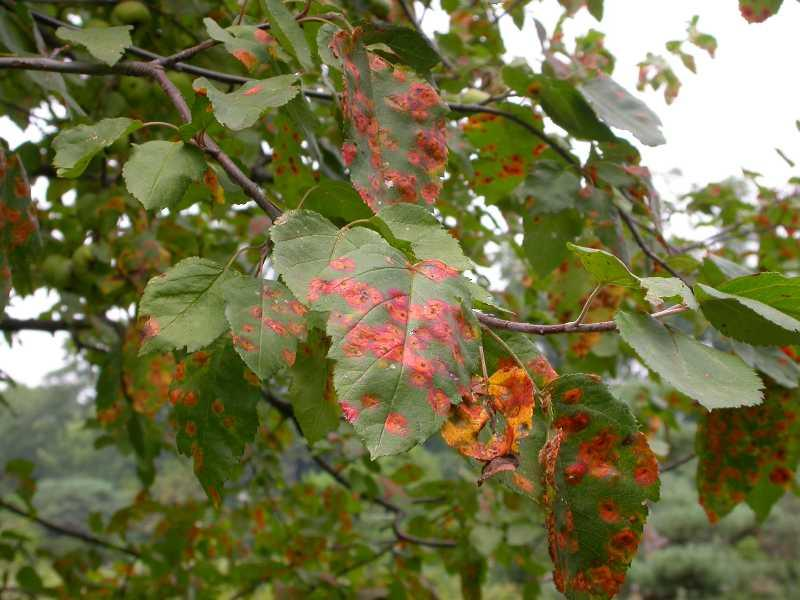Apple rust leaf: (301, 243, 501, 476), (525, 360, 714, 600), (308, 21, 467, 248), (169, 311, 270, 505), (677, 361, 773, 531), (214, 264, 310, 383), (1, 129, 47, 291)
